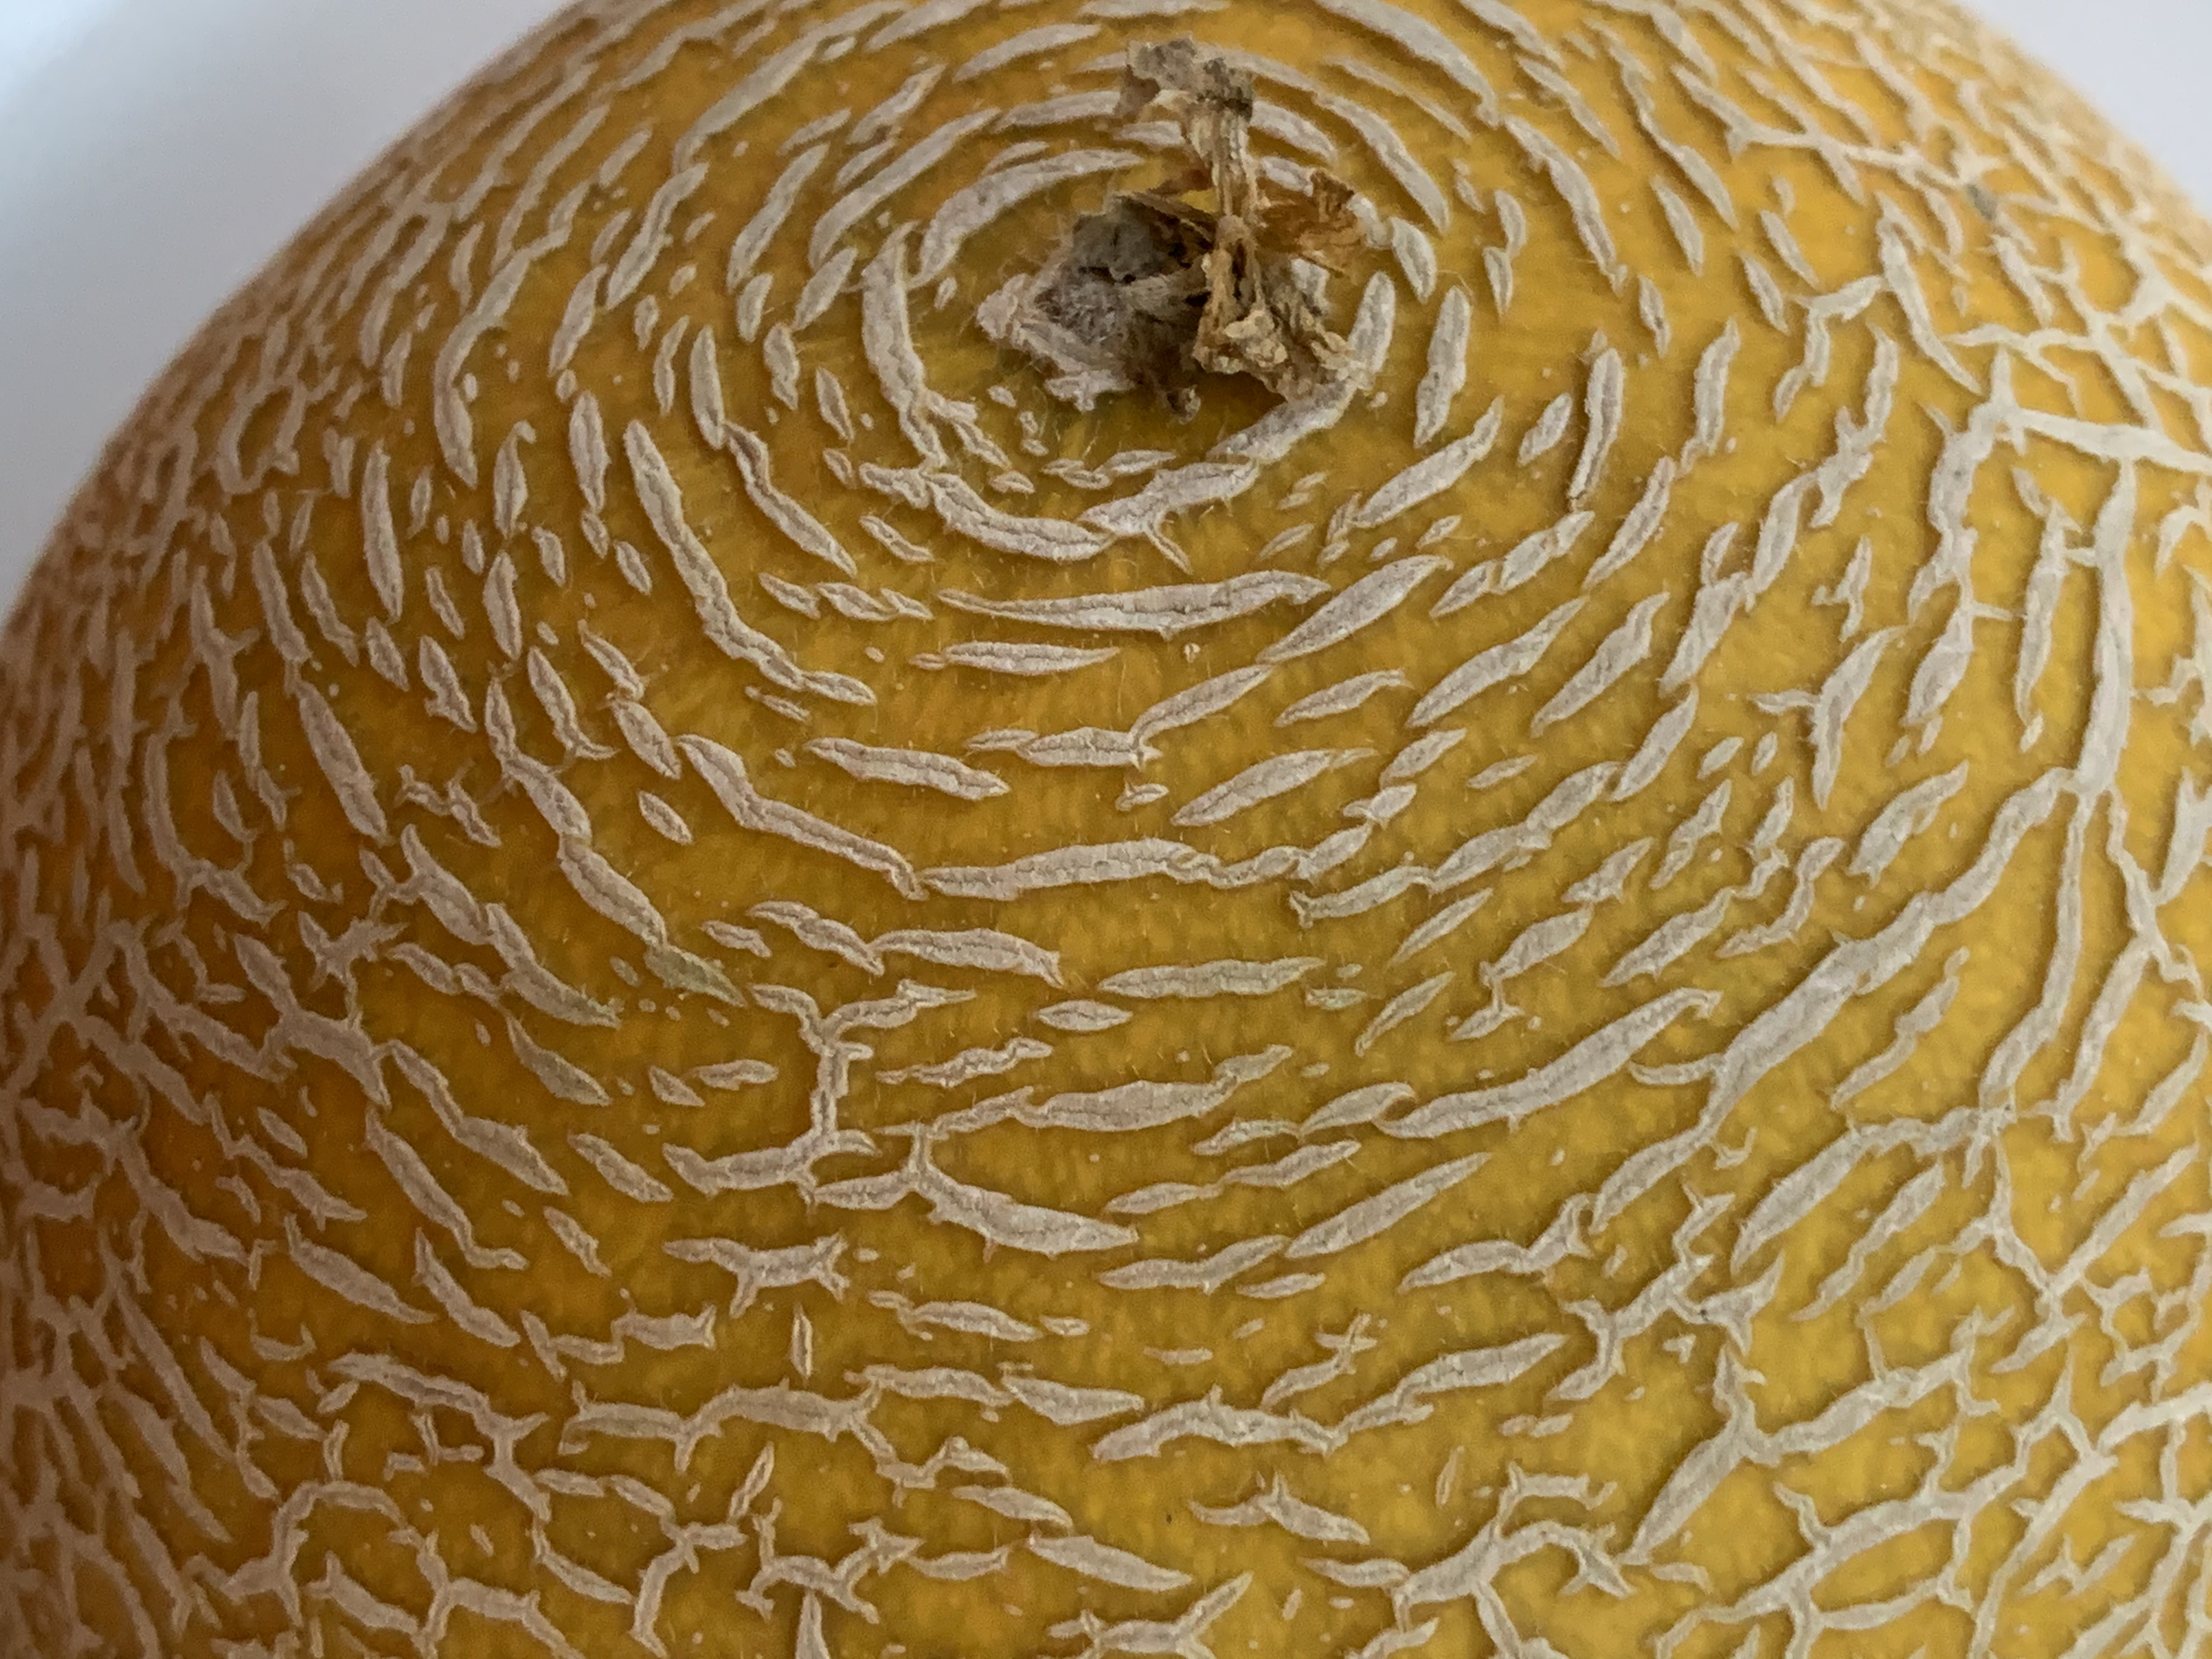galia melon: (5, 2, 2212, 1657), (2, 9, 2212, 1652)
